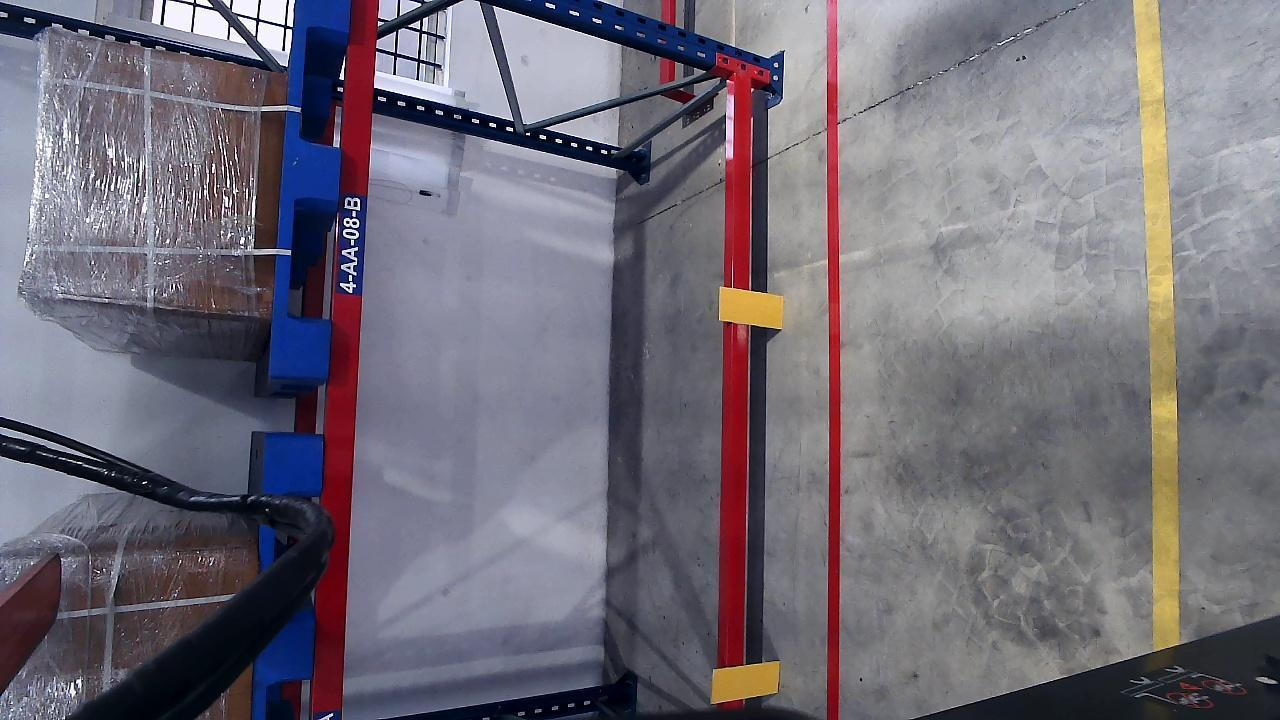red_line: (822, 0, 844, 715)
yellow_line: (1136, 2, 1183, 654)
